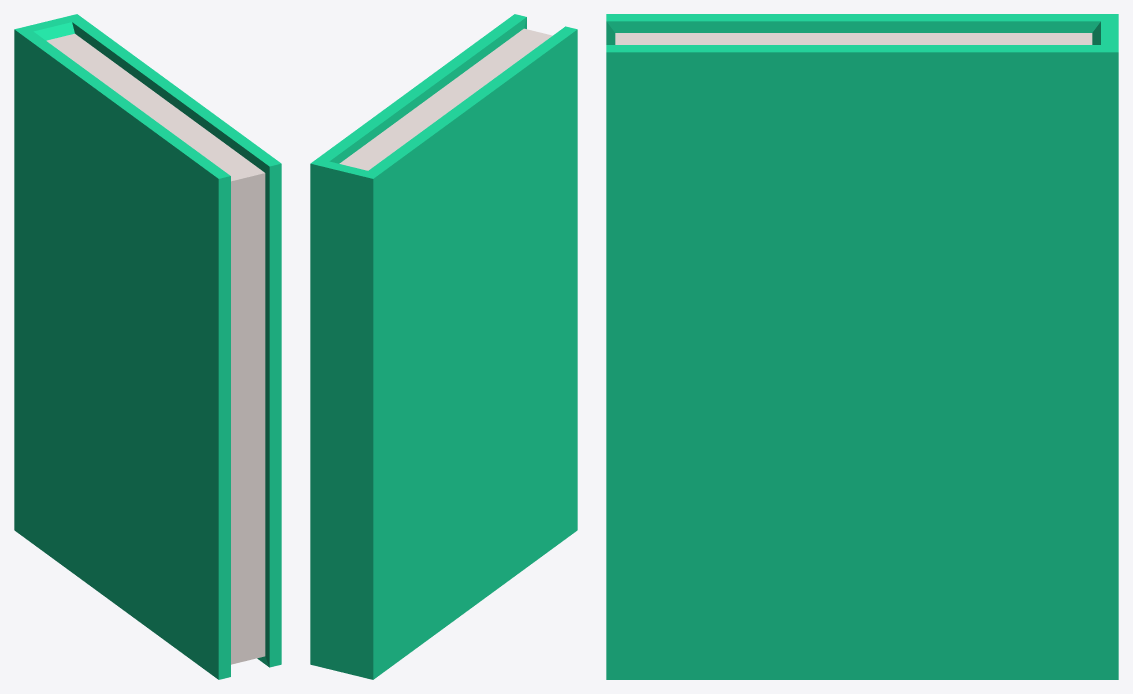
Rendered from Book_Green.fbx.
3 views of the same model, side by side, from view 1: azimuth 30°, elevation 25°; view 2: azimuth 150°, elevation 25°; view 3: azimuth 270°, elevation 25° (orthographic). The views are drawn at different scales.
Visible parts, largest first — view 1: Book_Green; view 2: Book_Green; view 3: Book_Green.
Boxes of the visible parts, box(x1,y1,x2,y2) form: Book_Green: box(14, 14, 281, 679); Book_Green: box(310, 14, 577, 679); Book_Green: box(606, 14, 1118, 679).
Bounding box in the file's own units: 6.08 × 46.32 × 34.25.
